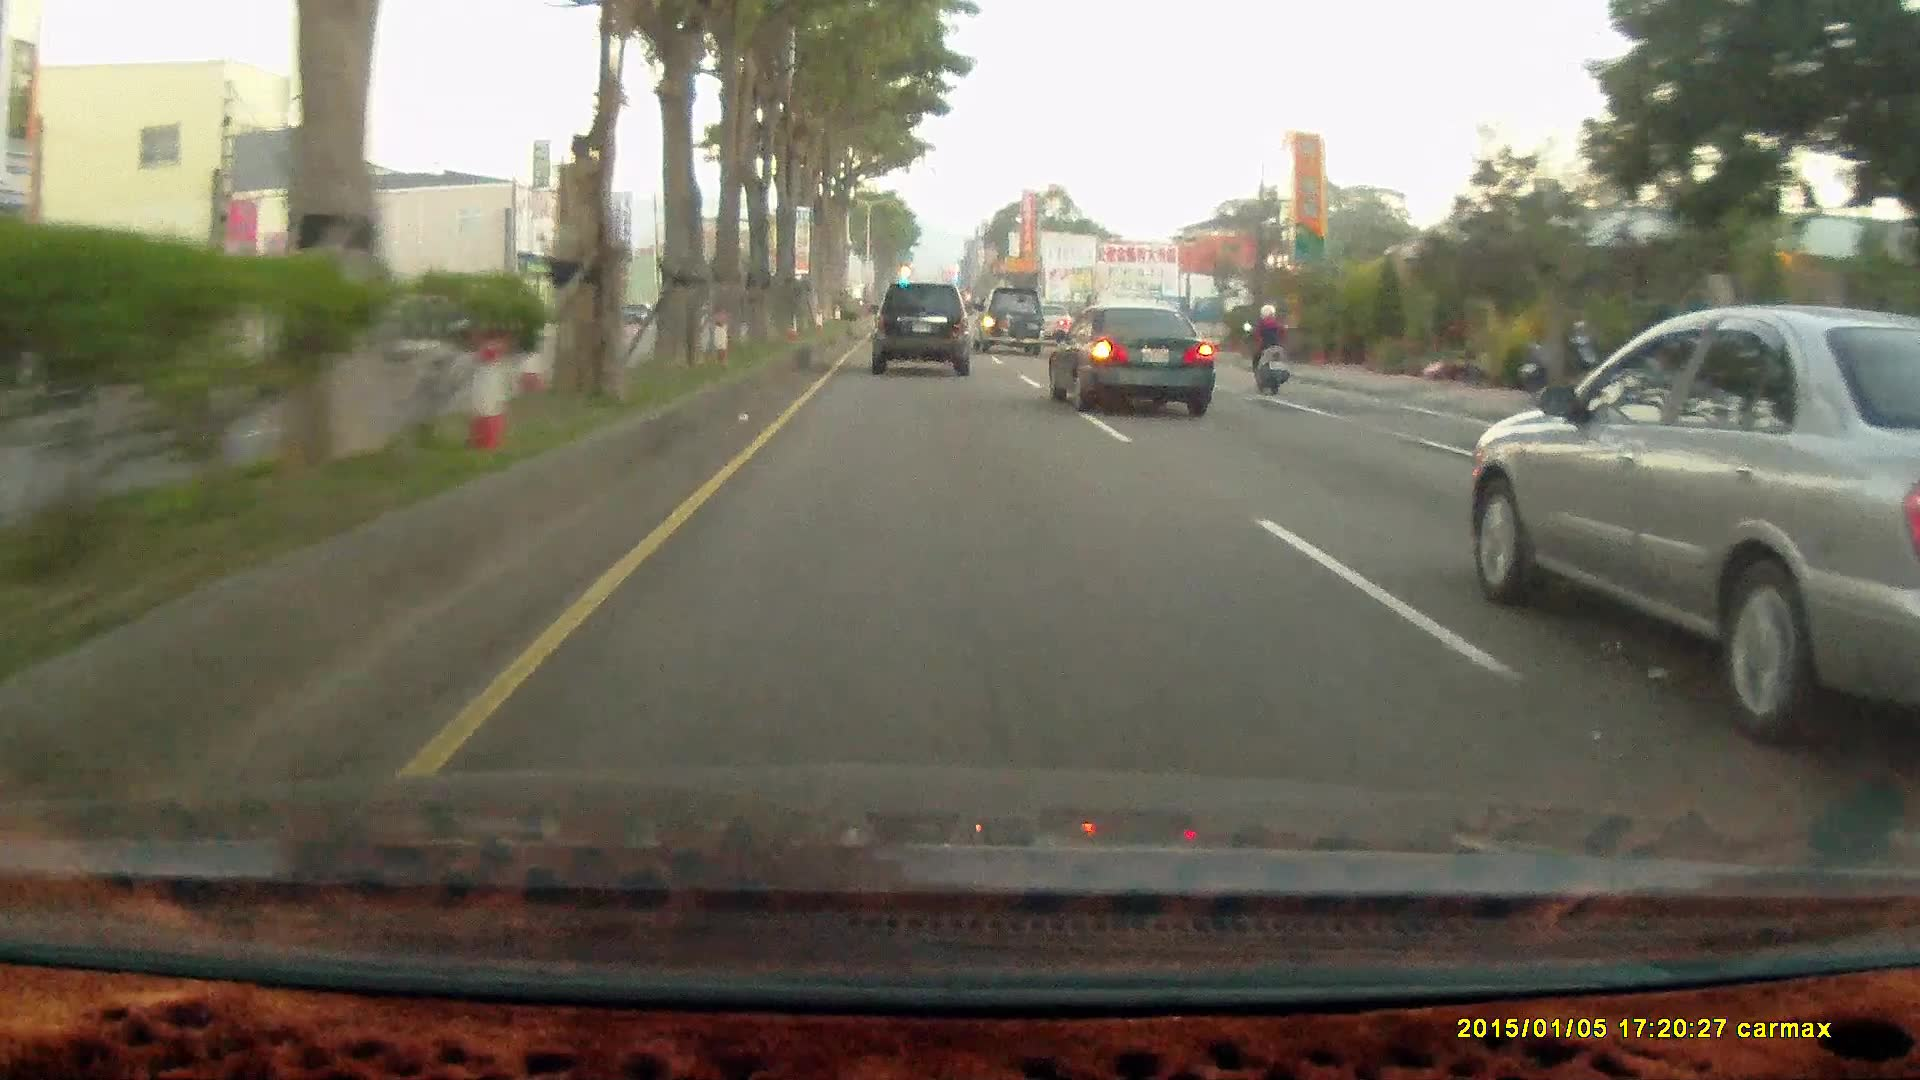rider: (1235, 292, 1301, 405), (1238, 299, 1292, 393)
vehicle: (1461, 297, 1915, 743), (1044, 301, 1219, 415), (1045, 301, 1214, 416), (869, 280, 975, 379), (866, 280, 968, 374), (975, 285, 1047, 357), (968, 280, 1039, 352)
